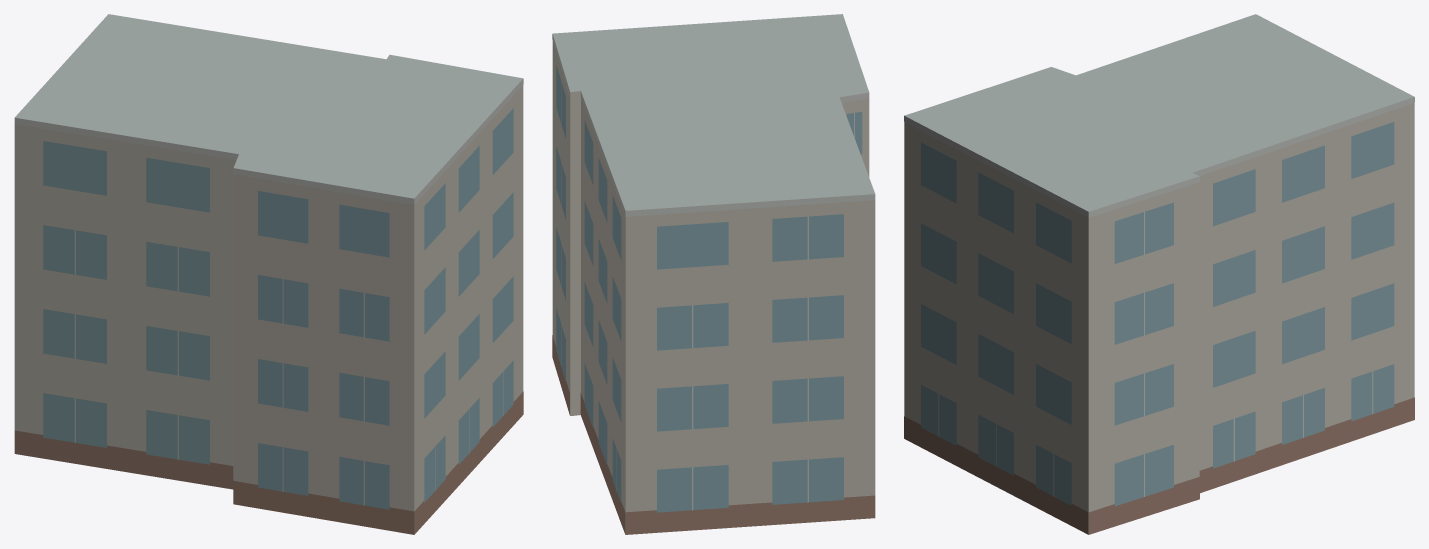
File: survey-upis-32688012.glb
The picture shows the model from 3 angles, left to right: view 1: azimuth 30°, elevation 25°; view 2: azimuth 150°, elevation 25°; view 3: azimuth 270°, elevation 25°; orthographic projection. The views are drawn at different scales.
Visible parts, largest first — view 1: survey-upis-32688012.tmp; view 2: survey-upis-32688012.tmp; view 3: survey-upis-32688012.tmp.
Part boxes in pixels (bbox=[...]): survey-upis-32688012.tmp: bbox=[14, 14, 523, 534]; survey-upis-32688012.tmp: bbox=[552, 14, 875, 534]; survey-upis-32688012.tmp: bbox=[904, 14, 1414, 534].
Bounding box in the file's own units: 17.25 × 13.13 × 18.81.
